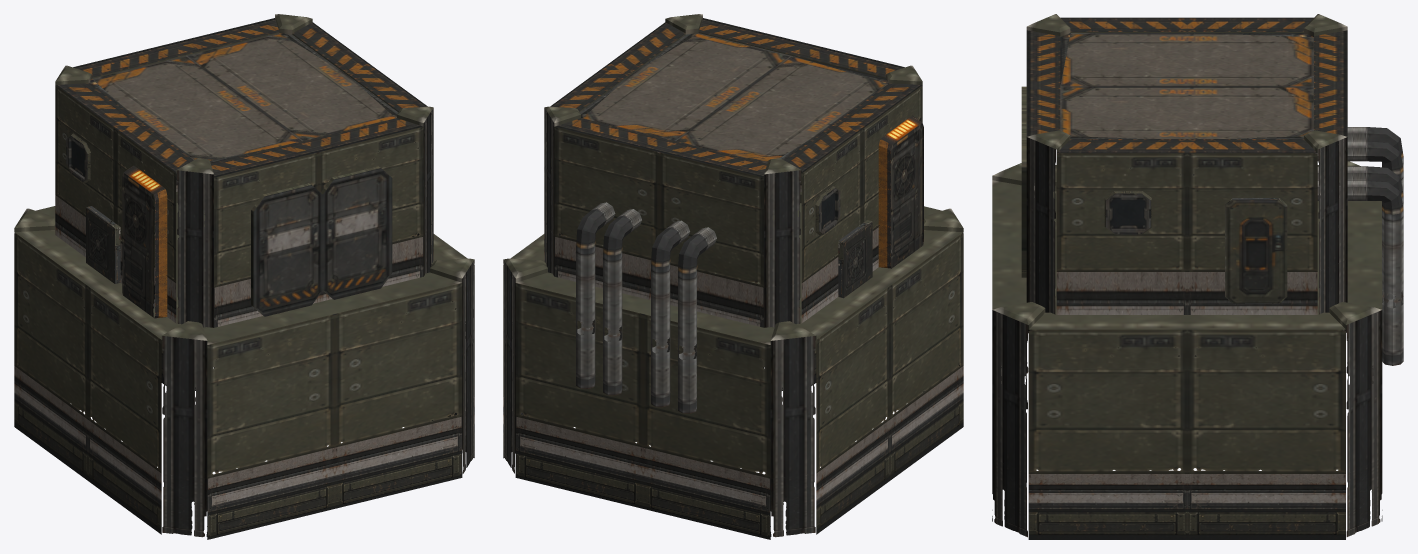
The model's file is storehouse.dae.
3 renders of one model, left to right at view 1: azimuth 30°, elevation 25°; view 2: azimuth 150°, elevation 25°; view 3: azimuth 270°, elevation 25°, orthographic. The views are drawn at different scales.
Parts seen in each view (by area): view 1: casa_storehouse.001; view 2: casa_storehouse.001; view 3: casa_storehouse.001.
Part boxes in pixels (x1,y1,x2,y2): casa_storehouse.001: [14, 14, 474, 539]; casa_storehouse.001: [503, 14, 963, 539]; casa_storehouse.001: [992, 14, 1403, 539].
Size of the model in its own units: 15.76 by 16.62 by 16.87.
